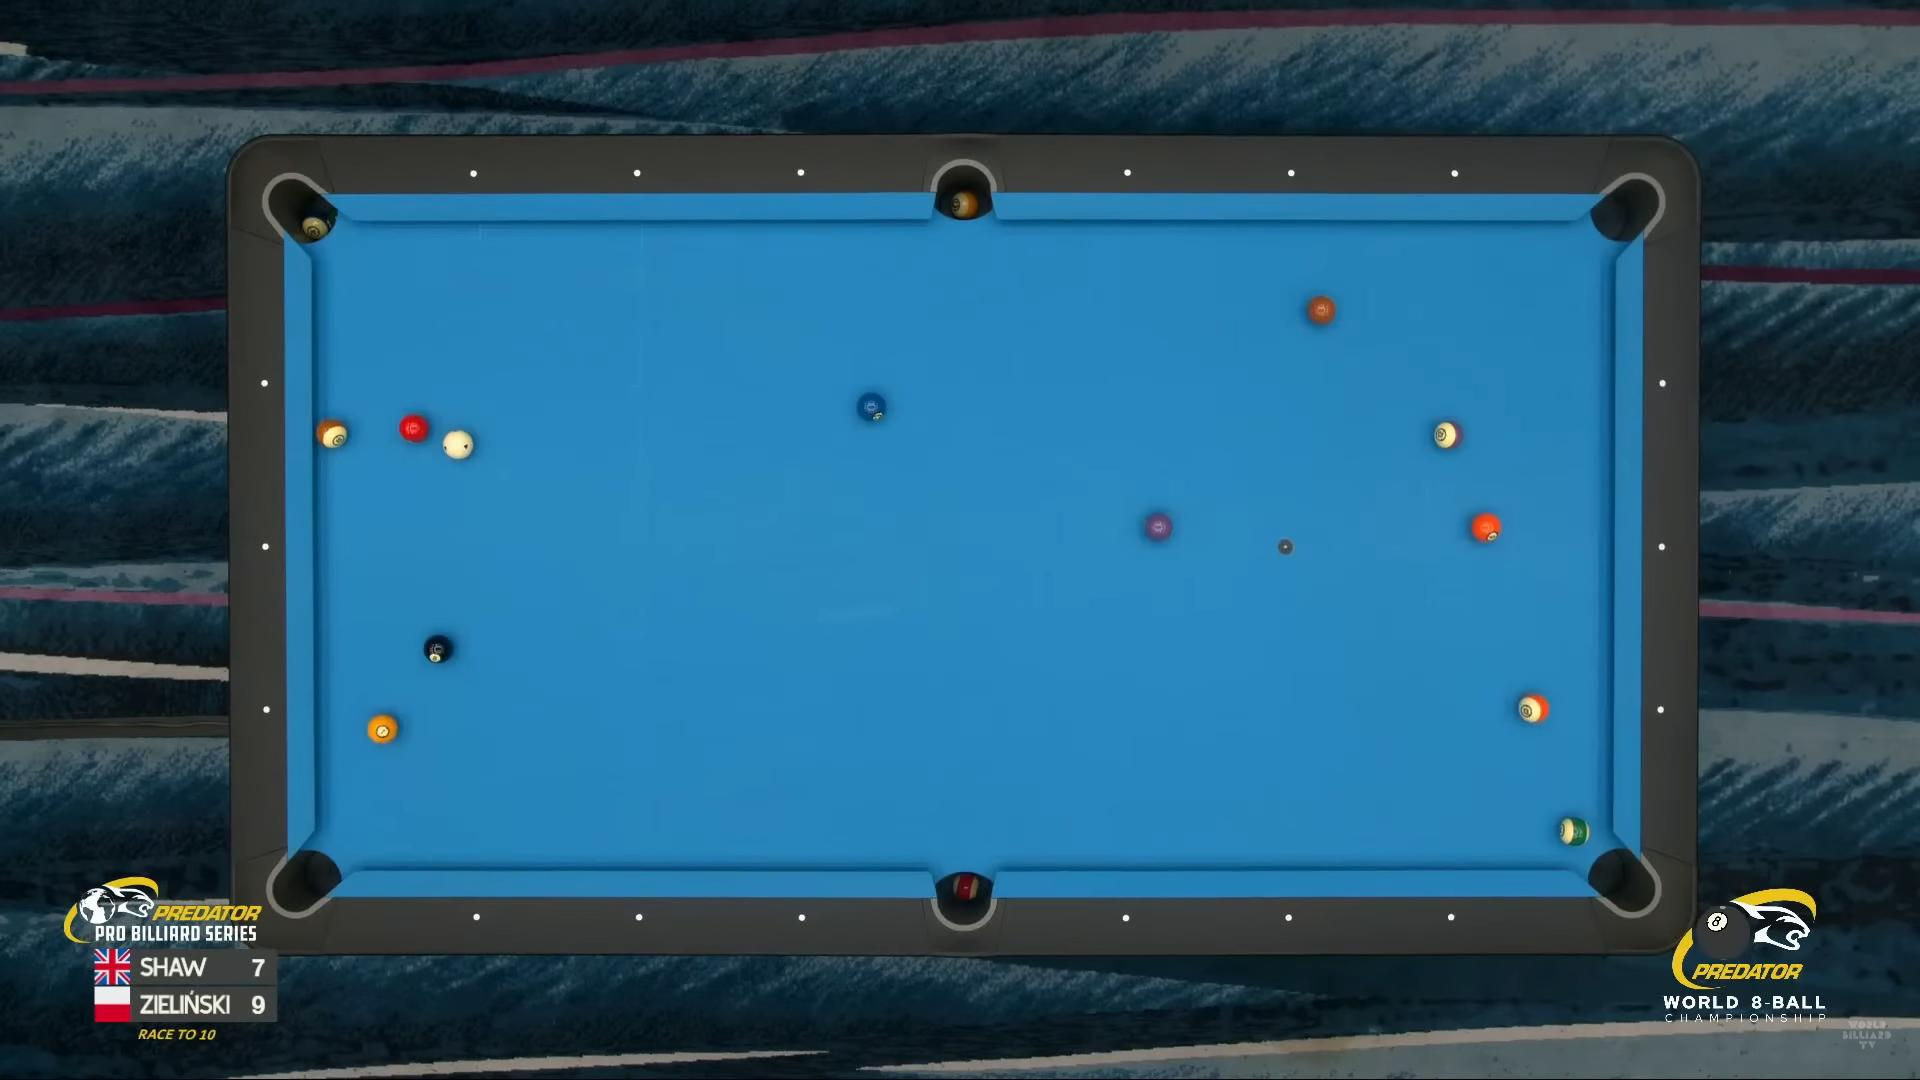Black: (423, 636, 454, 663)
Cue: (443, 430, 475, 460)
Dot: (1448, 166, 1462, 181), (1444, 910, 1458, 924), (795, 911, 810, 926), (257, 377, 272, 390), (467, 167, 481, 181), (630, 166, 644, 181), (794, 166, 808, 179), (1655, 376, 1669, 389), (1655, 541, 1669, 554), (1654, 703, 1668, 716), (260, 703, 273, 716), (258, 541, 272, 554), (1121, 166, 1134, 179), (1284, 166, 1298, 179), (1283, 911, 1296, 924), (1120, 911, 1133, 924), (632, 910, 645, 923), (469, 911, 483, 924)
Solid: (1142, 510, 1176, 543), (368, 715, 400, 745), (1472, 513, 1501, 542), (857, 392, 886, 421), (400, 414, 430, 442), (1308, 297, 1336, 324)
Striped: (316, 418, 347, 448), (1518, 695, 1549, 724), (1560, 816, 1590, 845), (1433, 421, 1464, 448)
